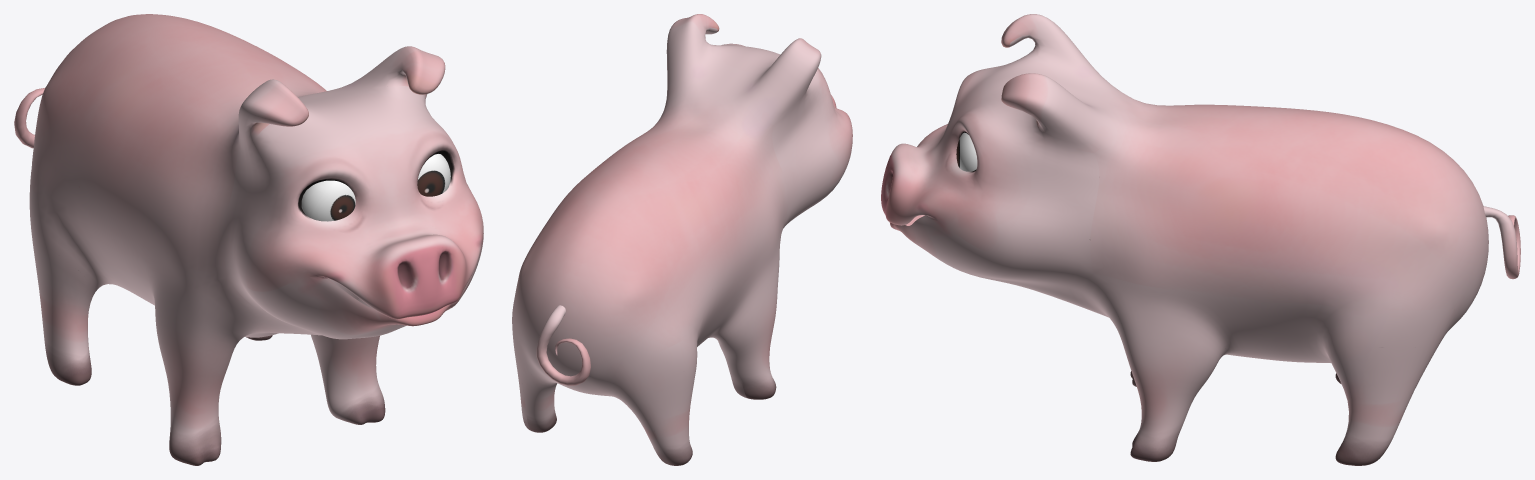
File: Low_Poly_Pig.glb
3 renders of one model, left to right at view 1: azimuth 30°, elevation 25°; view 2: azimuth 150°, elevation 25°; view 3: azimuth 270°, elevation 25°, orthographic. The views are drawn at different scales.
Visible parts, largest first — view 1: Cube_0, Sphere_0, Sphere.001_0, Plane_0; view 2: Cube_0, Plane_0; view 3: Cube_0, Plane_0, Sphere.001_0.
Boxes of the visible parts, box(x1,y1,x2,y2) form: Cube_0: box(29, 14, 483, 465); Sphere_0: box(301, 180, 355, 221); Sphere.001_0: box(417, 154, 450, 196); Plane_0: box(14, 88, 44, 148); Cube_0: box(512, 14, 852, 465); Plane_0: box(536, 305, 590, 385); Cube_0: box(881, 14, 1488, 465); Plane_0: box(1483, 206, 1520, 279); Sphere.001_0: box(956, 132, 977, 171).
Size of what is drawn, in the model's own units: 2.28 by 4.05 by 6.2.
2 materials, 2 textured.
